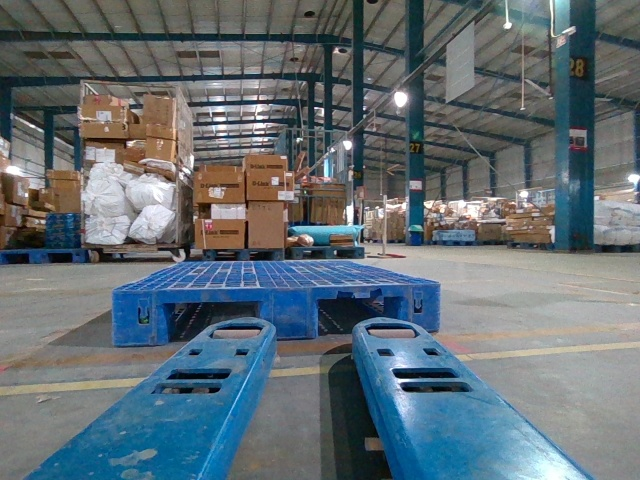block: (259, 286, 317, 340), (110, 288, 163, 345), (400, 281, 436, 332)
front: (111, 283, 439, 344)
hole pallet: (158, 294, 264, 345), (313, 292, 404, 337)
